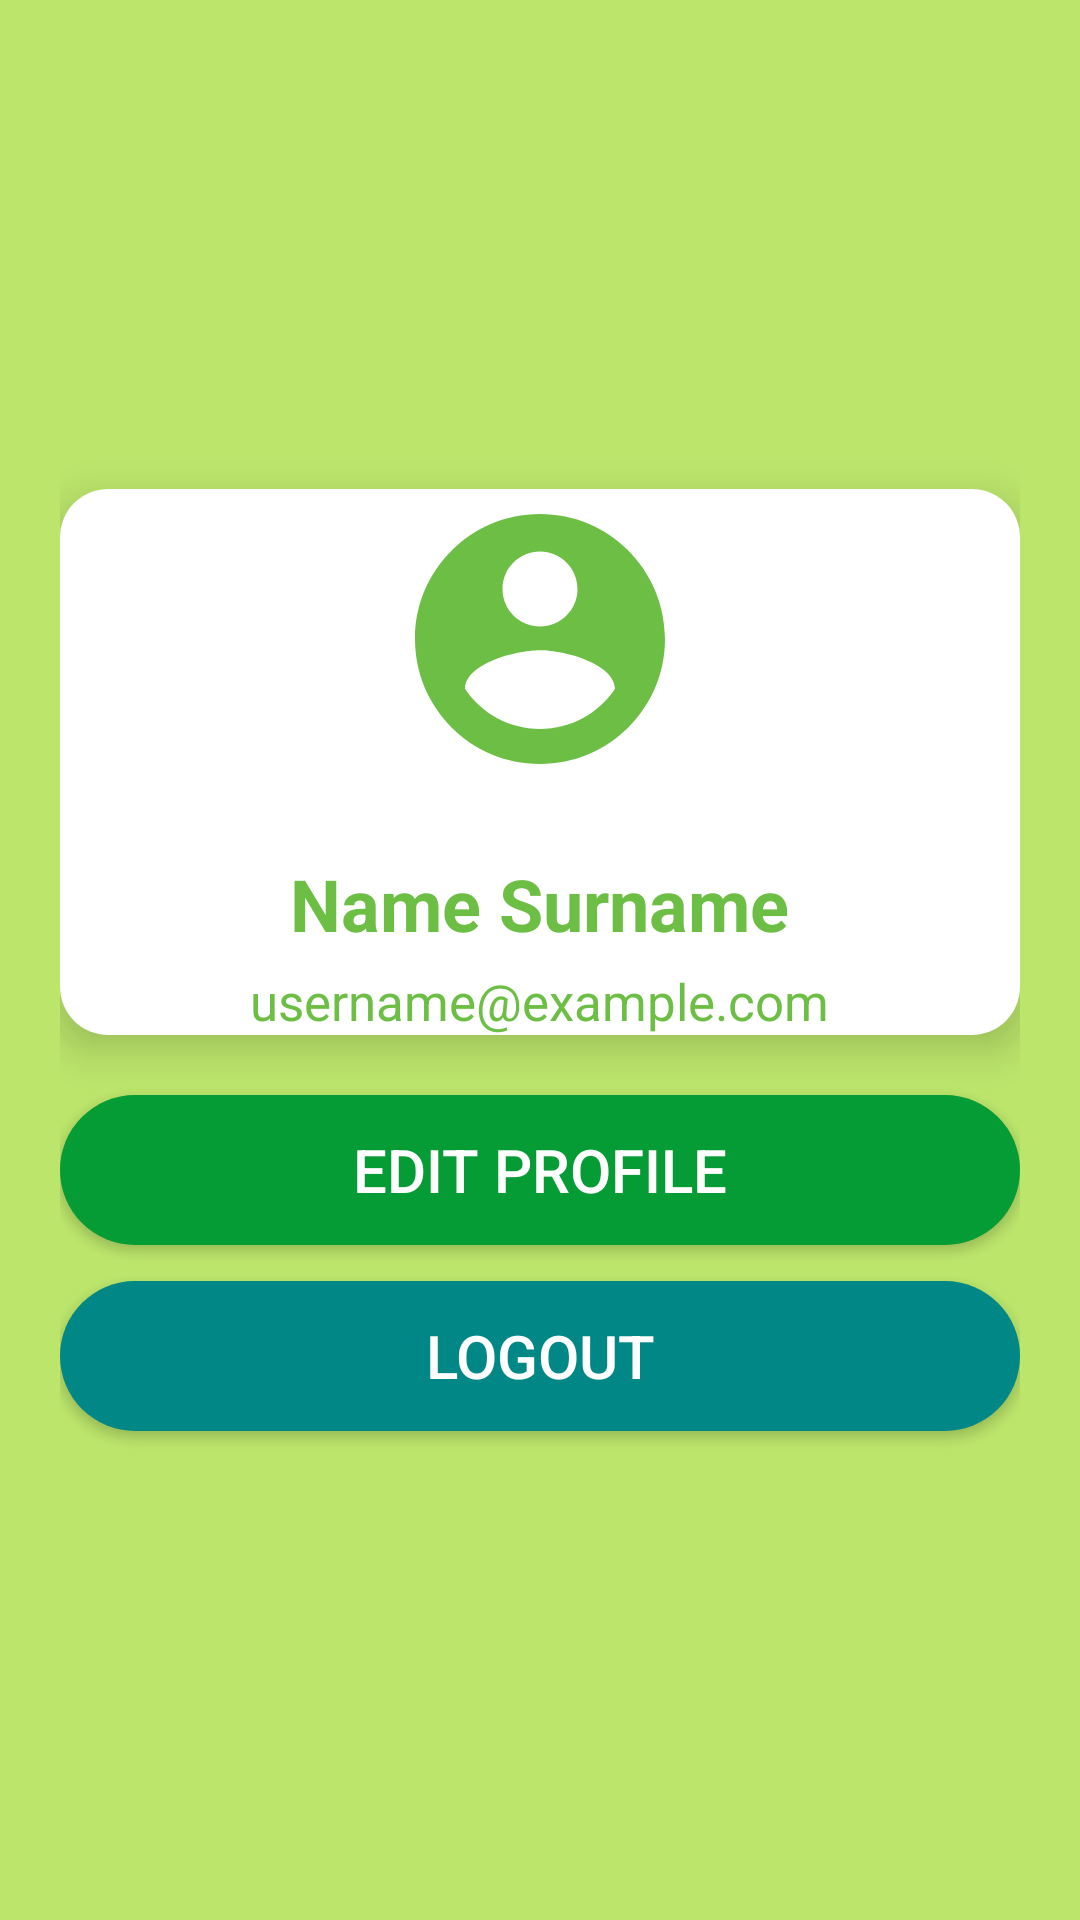

Icons on this 1080x1920 Android screen, each with its box as (x1, y1, x2, y2):
profile: (415, 514, 665, 764)
